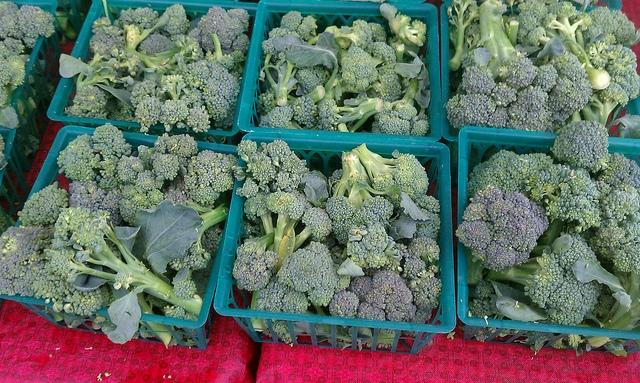broccoli: (41, 199, 204, 344), (484, 234, 604, 327), (325, 152, 433, 247), (462, 0, 538, 106), (456, 186, 550, 271), (536, 0, 610, 90), (522, 164, 602, 245), (352, 143, 430, 213), (276, 240, 351, 308), (532, 49, 592, 124), (232, 140, 308, 198), (590, 184, 640, 272), (468, 148, 554, 197), (168, 202, 228, 270), (0, 223, 54, 296), (255, 274, 311, 344), (260, 188, 314, 256), (181, 59, 240, 120), (347, 223, 409, 280), (371, 78, 429, 136), (258, 27, 300, 106), (550, 120, 610, 173), (184, 150, 238, 205), (232, 232, 279, 292), (189, 7, 249, 54), (316, 91, 384, 132), (365, 270, 417, 322), (56, 134, 106, 186), (506, 84, 560, 132), (18, 182, 72, 226), (587, 304, 640, 348), (448, 0, 480, 72), (583, 6, 636, 45), (604, 44, 640, 100), (586, 81, 629, 127), (508, 0, 560, 38), (118, 182, 165, 224), (259, 84, 326, 113), (446, 92, 497, 130), (292, 207, 332, 253), (16, 5, 56, 50), (64, 84, 114, 120), (341, 46, 379, 93), (90, 17, 124, 67), (596, 152, 640, 188), (398, 206, 441, 242), (387, 14, 427, 51), (91, 122, 132, 158), (408, 269, 442, 310), (244, 188, 274, 234), (334, 20, 373, 54), (205, 31, 235, 74), (134, 94, 164, 136), (366, 68, 401, 103), (68, 180, 105, 213), (280, 11, 318, 42), (407, 236, 440, 270), (294, 66, 332, 93), (98, 188, 123, 229), (138, 57, 172, 87), (130, 80, 166, 108), (258, 104, 298, 129), (160, 99, 190, 132), (159, 4, 190, 35), (160, 175, 190, 206), (136, 34, 176, 57), (400, 195, 440, 218), (1, 1, 24, 40), (329, 290, 360, 318), (0, 54, 26, 87), (163, 305, 198, 329), (292, 96, 319, 127), (200, 224, 224, 258), (165, 134, 199, 158), (366, 41, 396, 68), (106, 96, 135, 122), (172, 268, 197, 298), (346, 276, 373, 303), (184, 105, 210, 133), (116, 155, 140, 185), (153, 154, 180, 180), (521, 26, 551, 47), (467, 299, 491, 325), (328, 168, 348, 198), (134, 7, 160, 29), (96, 173, 124, 193), (486, 106, 509, 130), (136, 170, 163, 188), (396, 44, 406, 91), (370, 22, 387, 45), (506, 20, 520, 47), (331, 74, 342, 90), (272, 60, 280, 66)
